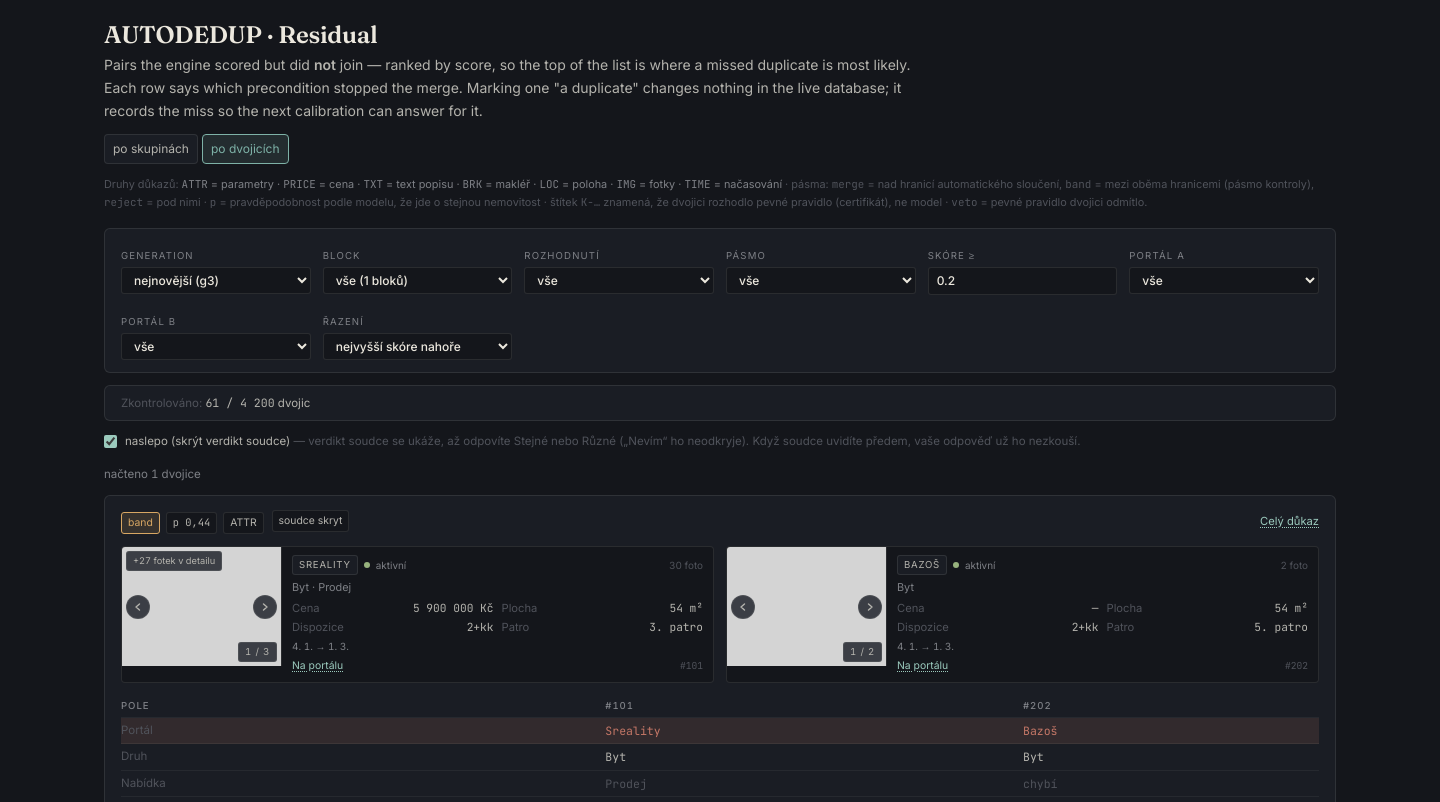
Test case: <AutodedupResidual> › pages each side of the row, and only that side
Expected: the text "1 / 3" is shown, left=238, top=642, right=277, bottom=662
Expected: the text "1 / 2" is shown, left=843, top=642, right=882, bottom=662
What coordinates should you click on to do the following:
click the button named "Next photo" below "27"
I would click on:
 (265, 607)
Its box is left=253, top=595, right=277, bottom=619.
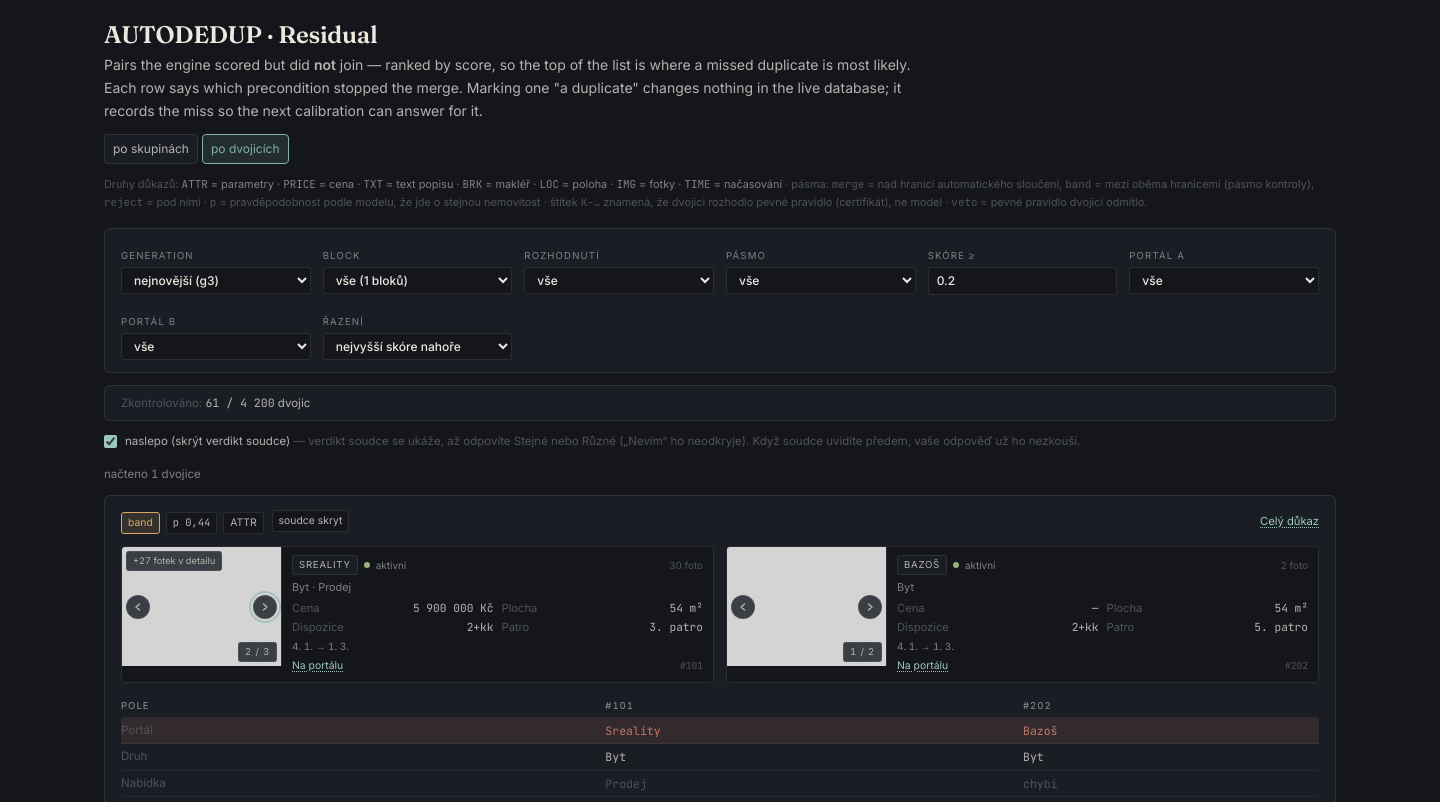
Expected: the text "1 / 2" is shown, left=843, top=642, right=882, bottom=662
Now the text "2 / 3" is shown, box left=238, top=642, right=277, bottom=662
What coordinates should you click on to do the following:
click the 2nd button named "Next photo"
I would click on:
 (870, 607)
Its box is left=858, top=595, right=882, bottom=619.
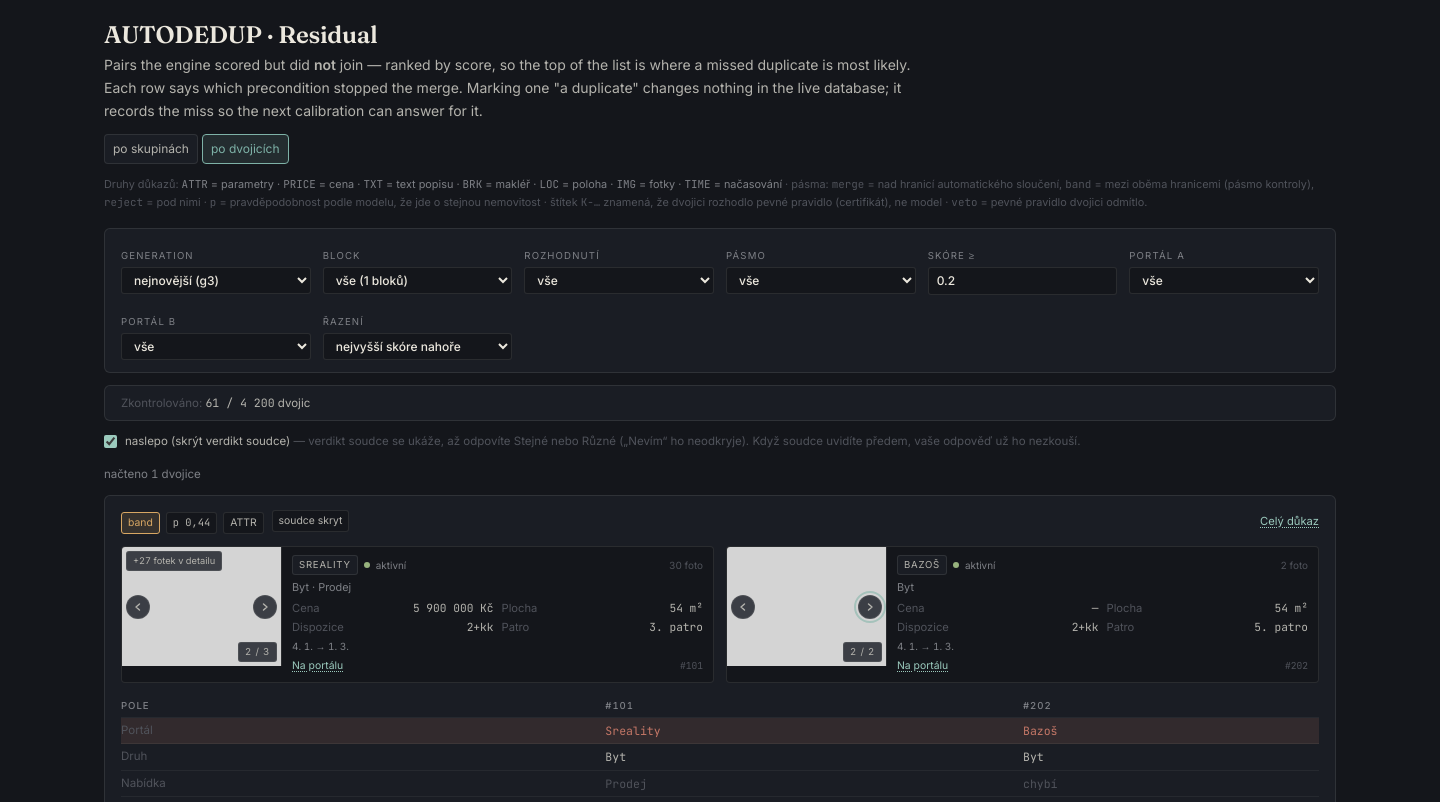
Now the text "2 / 3" is shown, box left=238, top=642, right=277, bottom=662
Now the text "2 / 2" is shown, box left=843, top=642, right=882, bottom=662
